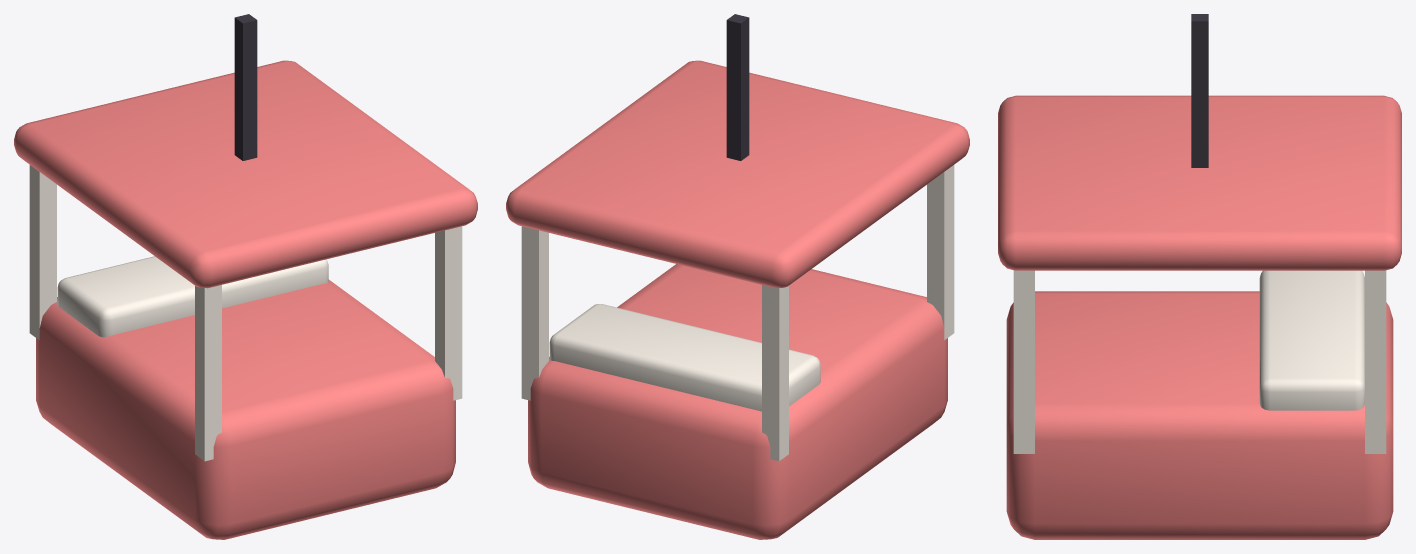
File: ferris_gondola_c.glb
The picture shows the model from 3 angles, left to right: view 1: azimuth 30°, elevation 25°; view 2: azimuth 150°, elevation 25°; view 3: azimuth 270°, elevation 25°; orthographic projection. The views are drawn at different scales.
Parts seen in each view (by area): view 1: ferris_gondola_c; view 2: ferris_gondola_c; view 3: ferris_gondola_c.
Boxes of the visible parts, x1,y1,x2,y2 form: ferris_gondola_c: (14, 14, 477, 539); ferris_gondola_c: (506, 14, 969, 539); ferris_gondola_c: (998, 14, 1401, 539).
Bounding box in the file's own units: 1 × 1.46 × 1.15.
